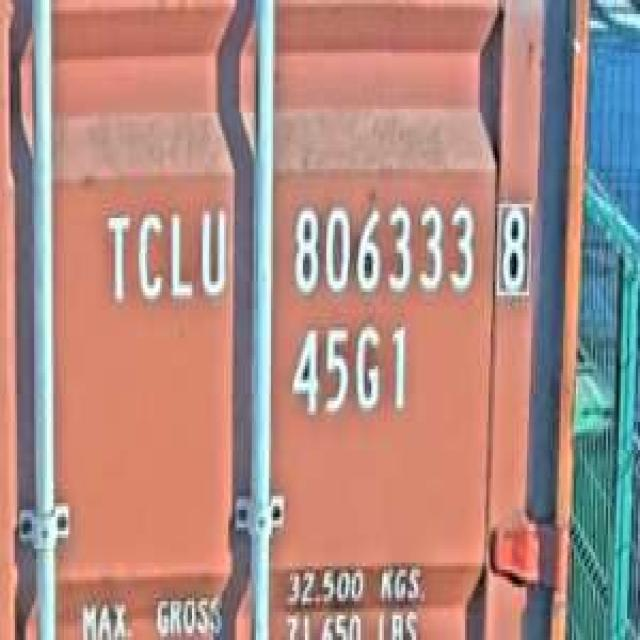dv: (490, 190, 536, 302)
owner: (98, 197, 233, 313)
serial: (284, 193, 480, 306)
size: (284, 313, 414, 429)
